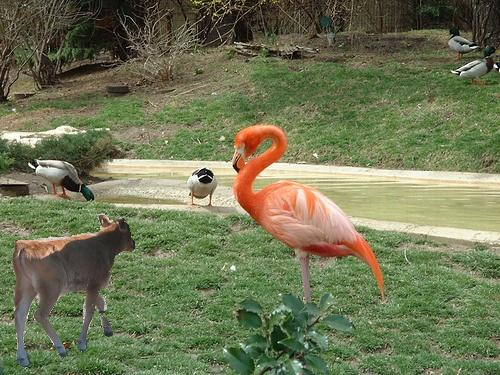tampered: (12, 214, 135, 367)
